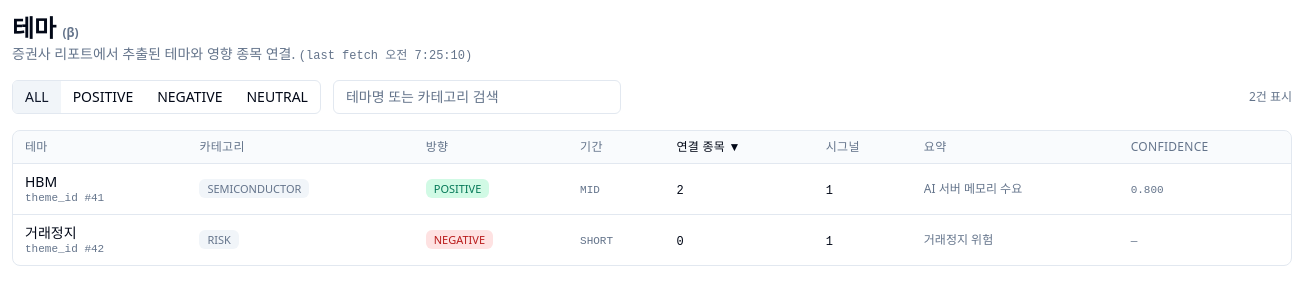
Scenario: ThemesPage › filters by search input (theme_name / category)
The width and height of the screenshot is (1304, 283).
expect the link with test id "theme-row-41" is shown: met, box x1=25 y1=172 x2=104 y2=204
Type "RISK" into the search field with test id "theme-search".
click(477, 97); type("RISK")  # box x1=333 y1=80 x2=621 y2=114
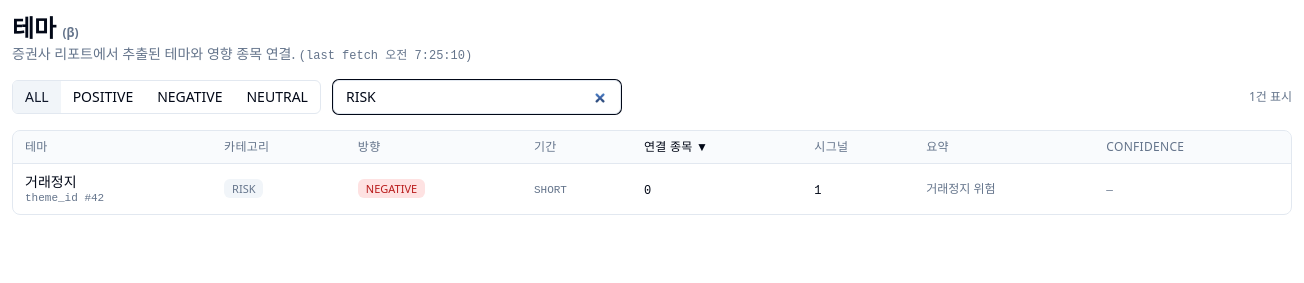
expect the link with test id "theme-row-42" is shown: met, box x1=25 y1=172 x2=104 y2=204
